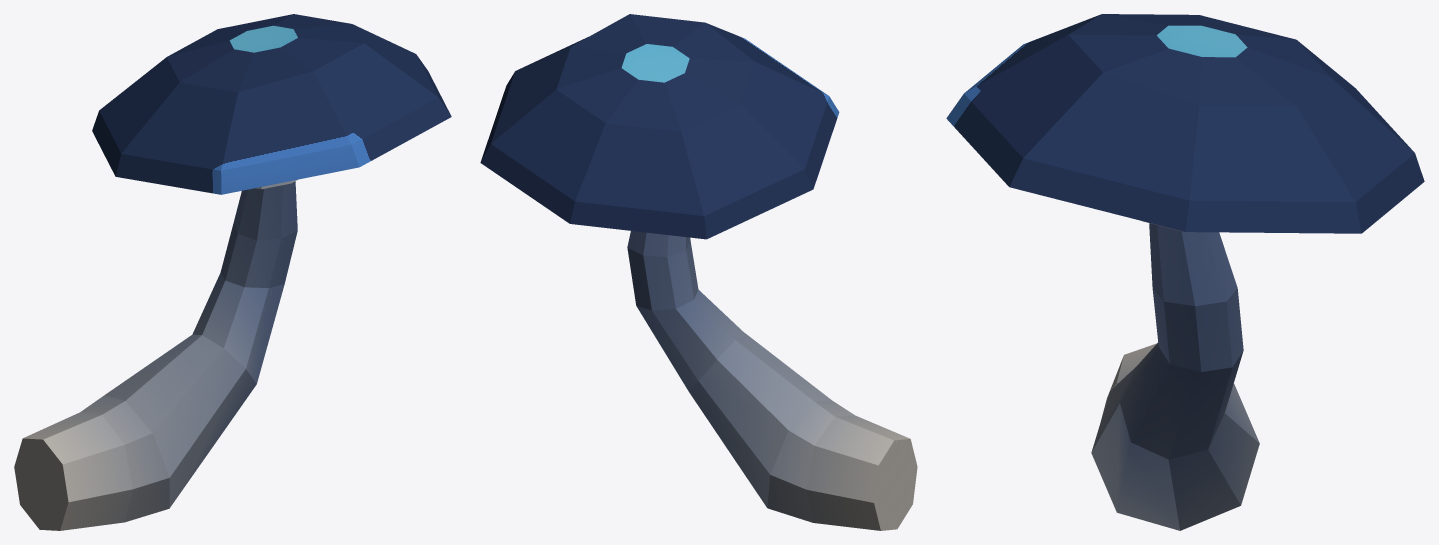
File: Hongo-Pared.fbx
3 renders of one model, left to right at view 1: azimuth 30°, elevation 25°; view 2: azimuth 150°, elevation 25°; view 3: azimuth 270°, elevation 25°, orthographic. The views are drawn at different scales.
Parts seen in each view (by area): view 1: Hongo-pared; view 2: Hongo-pared; view 3: Hongo-pared.
Boxes of the visible parts, left/top/right/bottom form: Hongo-pared: left=14, top=14, right=451, bottom=530; Hongo-pared: left=480, top=14, right=917, bottom=530; Hongo-pared: left=946, top=14, right=1424, bottom=530.
Size of the model in its own units: 43.84 by 46.64 by 34.53.
